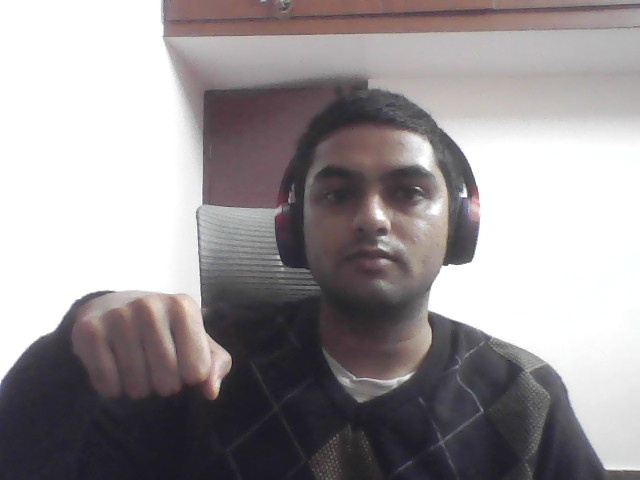Yes: (27, 264, 265, 442)
